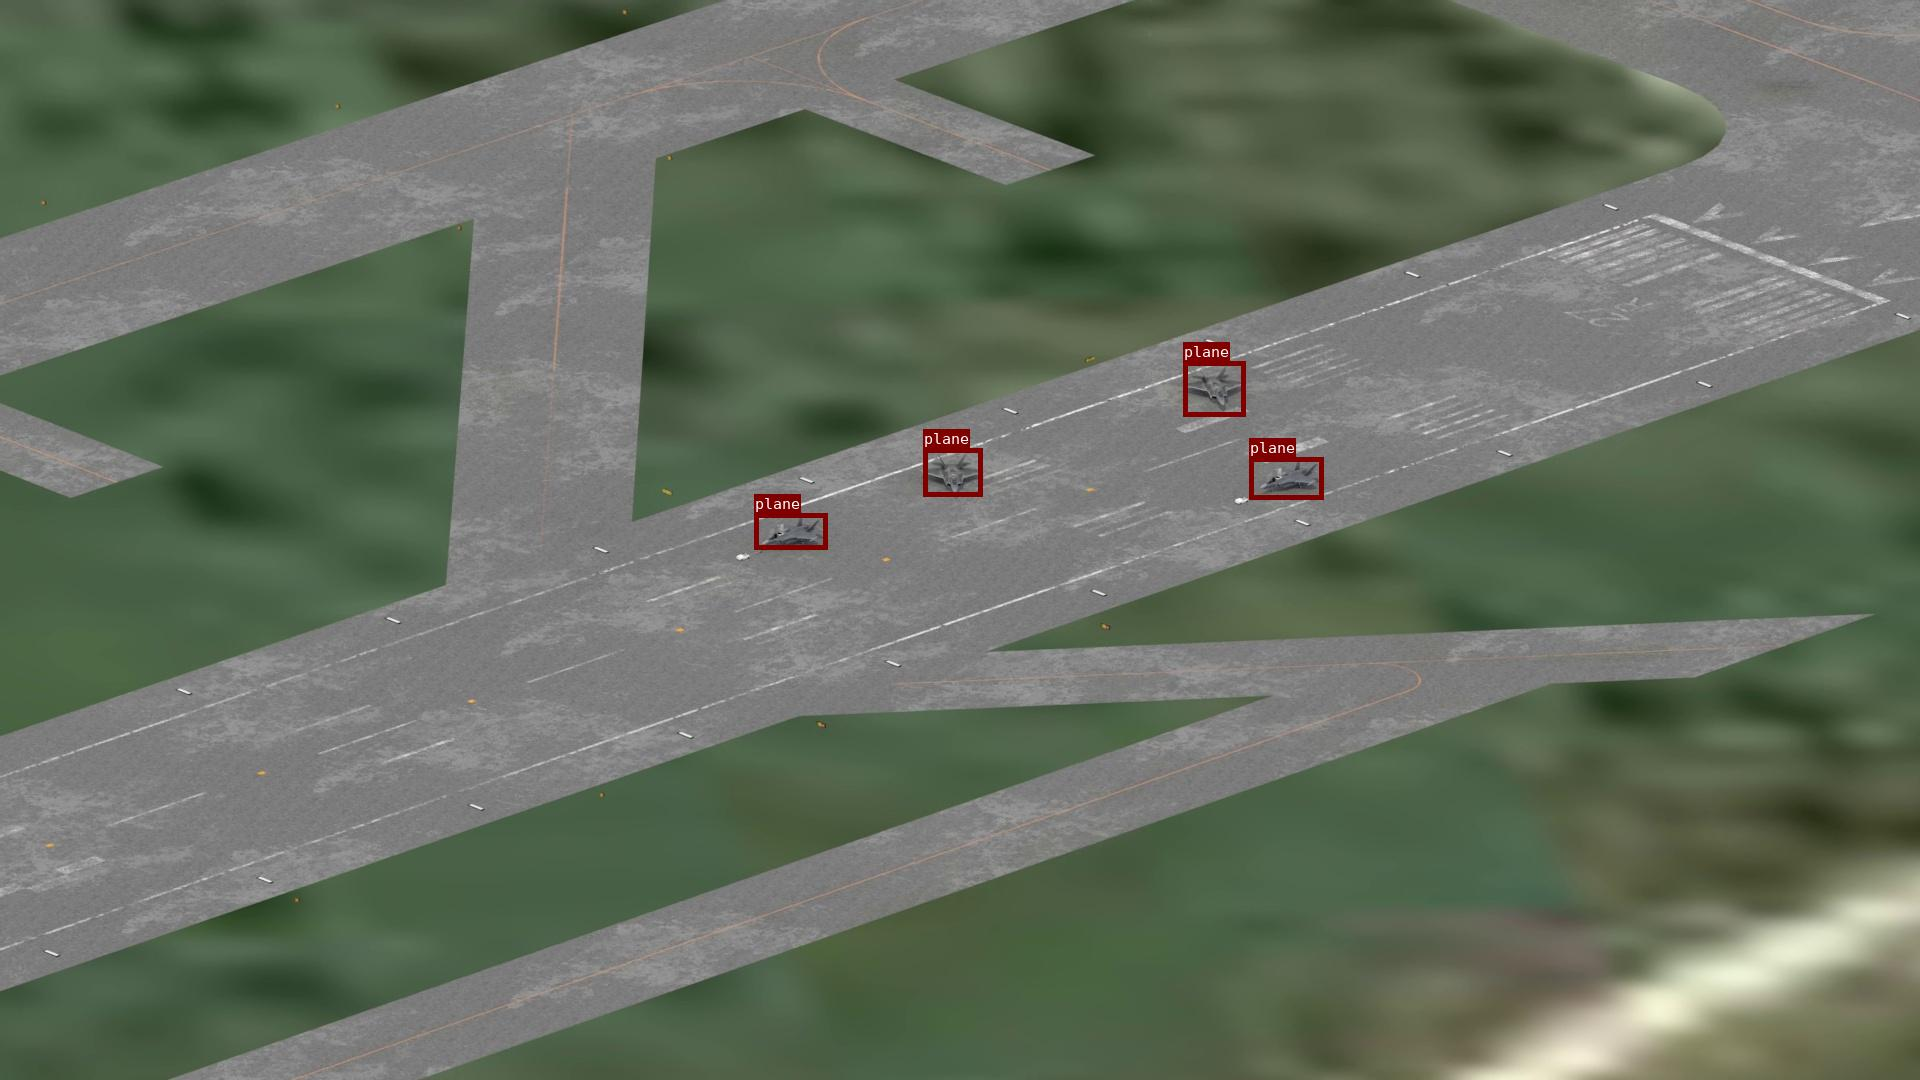plane: (1183, 361, 1245, 415), (1249, 458, 1323, 498), (923, 448, 982, 496), (754, 513, 827, 549)
